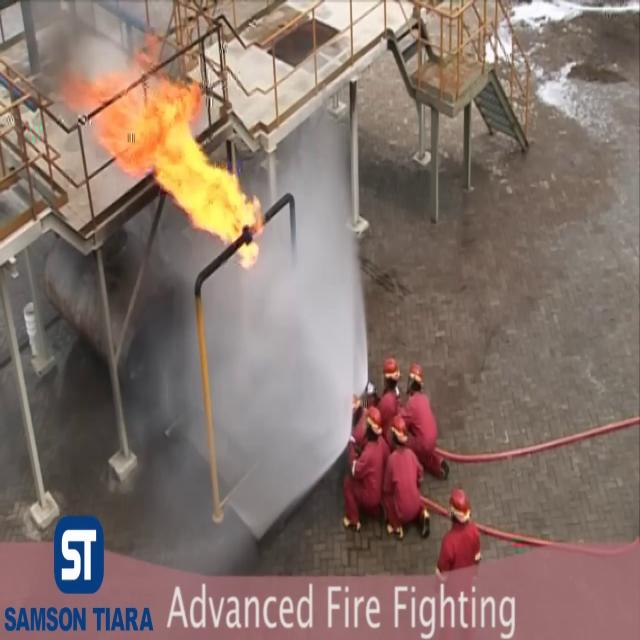Fire: (92, 60, 258, 248)
